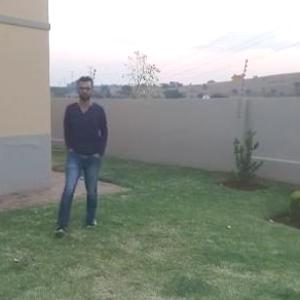follow: (58, 73, 109, 221)
